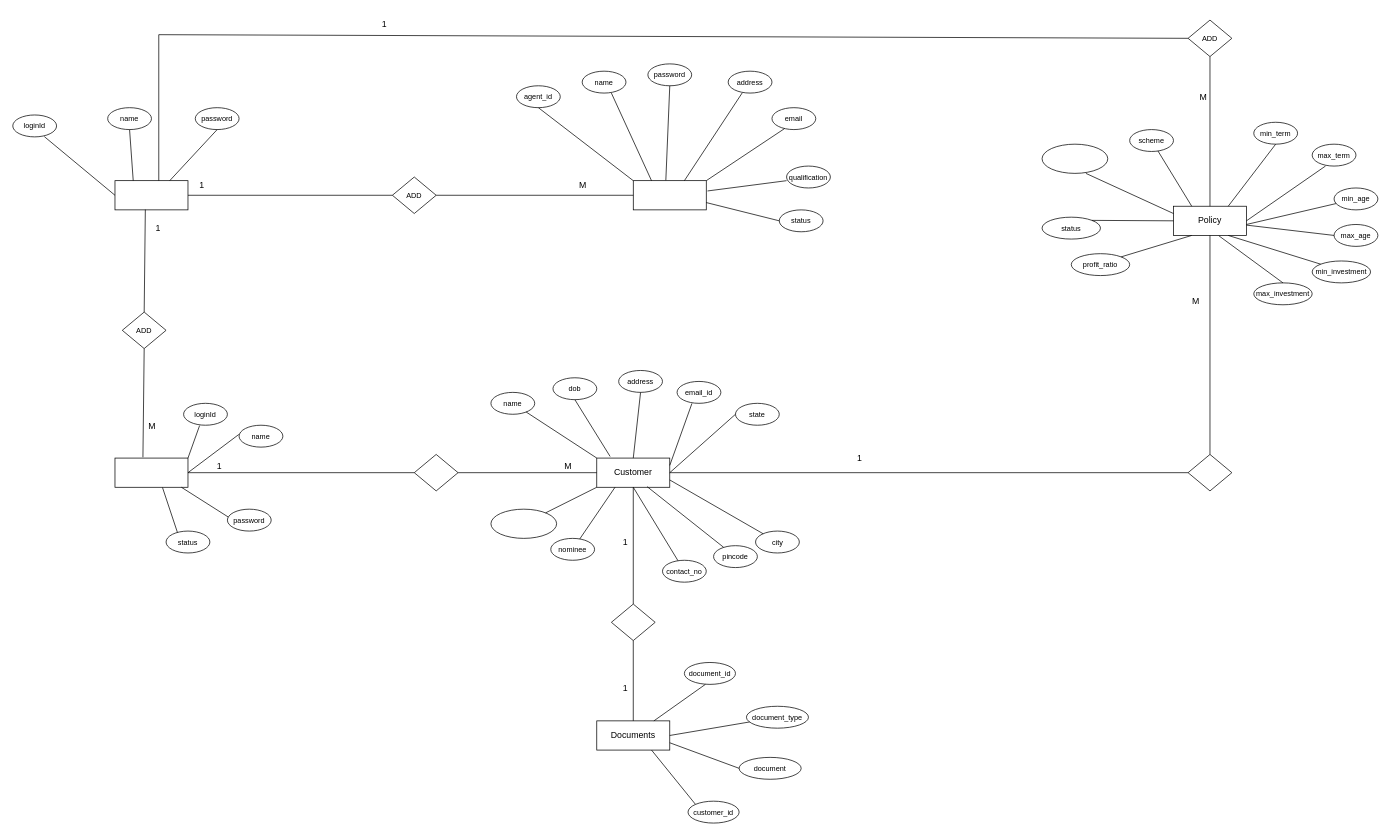
Image size: 1391x836. Some labels were removed from this diagram. The shapes that lost their labels are listed below. From the top down, each one's centre as x and y in pixels, then its label:
At (x=1074, y=158): "insurance_type".
At (x=151, y=195): "Admin".
At (x=669, y=195): "Agent".
At (x=151, y=472): "Employee".
At (x=436, y=472): "Manages".
At (x=1209, y=472): "Buy".
At (x=523, y=523): "nominee_relation".
At (x=633, y=622): "has".
